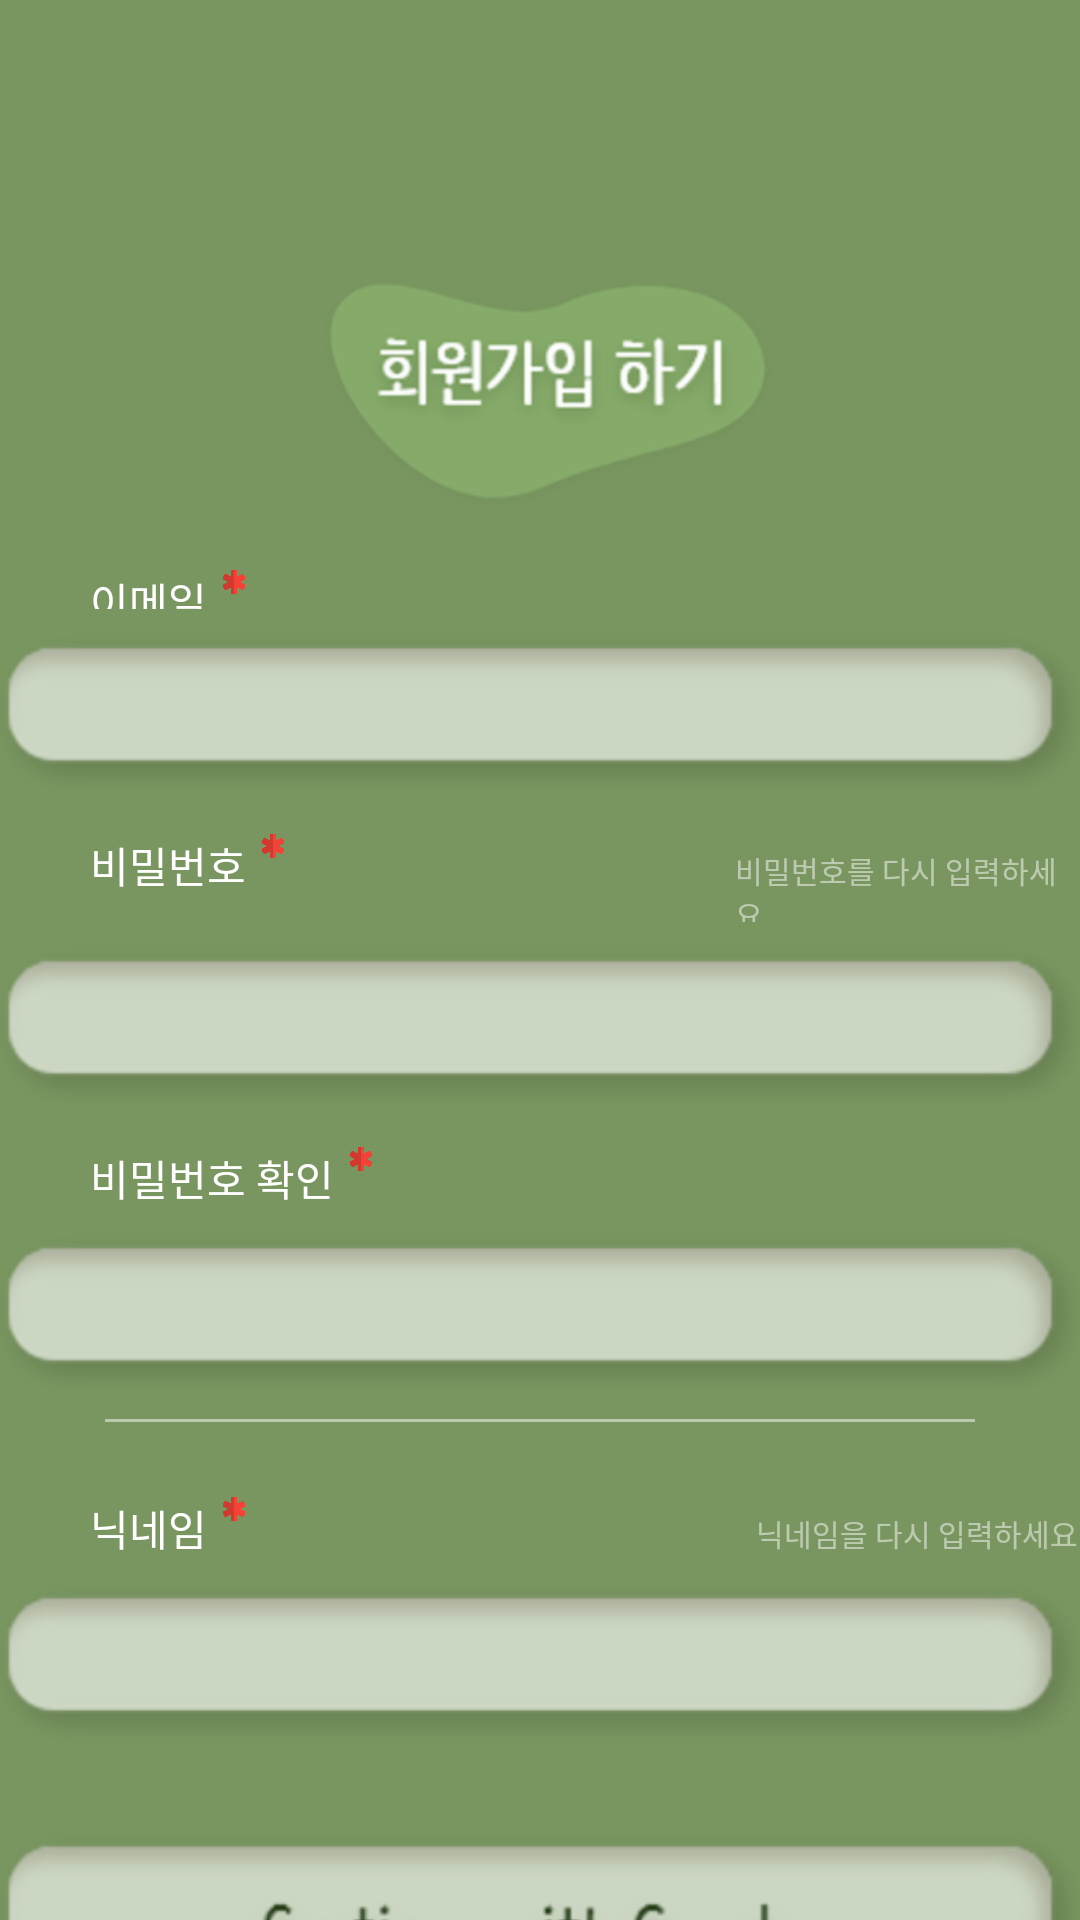

Point at icon controls on the screen. Image size 1080px x 1920px, points as [x,y].
essential star: [234,582], [273,846], [361,1159], [234,1509]
